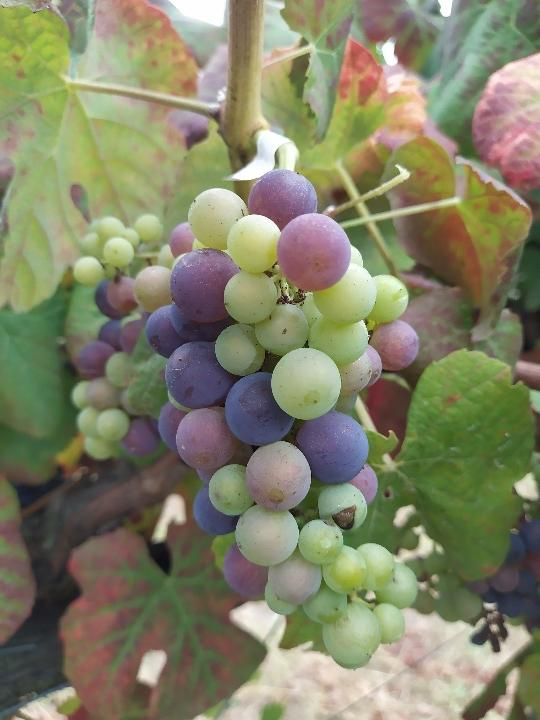grape: (142, 166, 423, 672)
